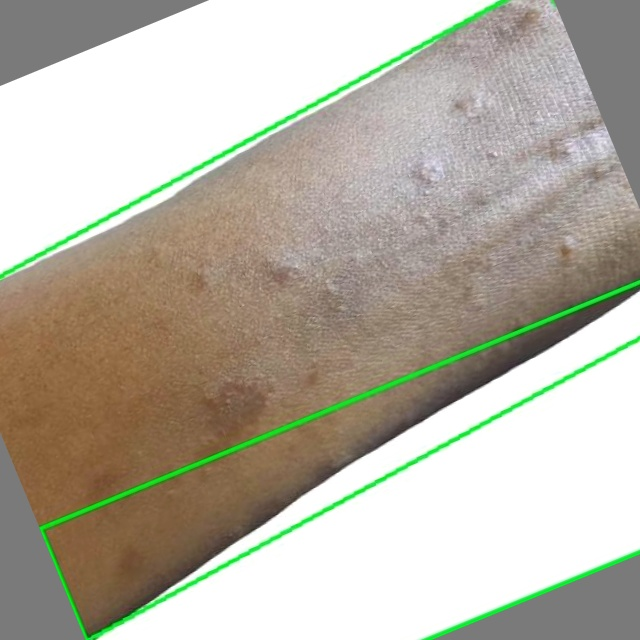Scabies: (0, 0, 639, 639), (40, 283, 639, 639)
